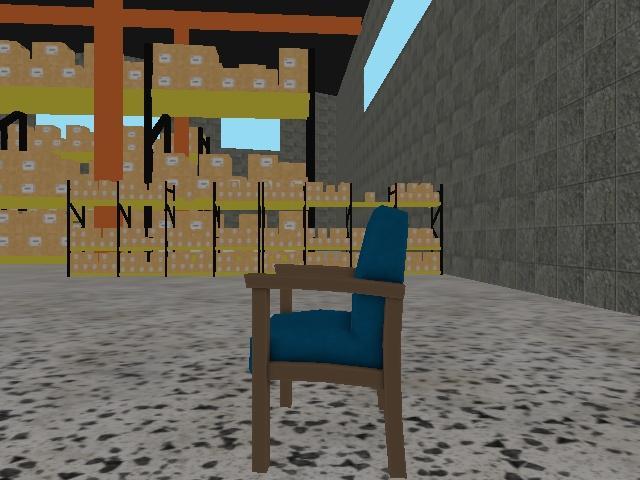chair: (241, 203, 413, 480)
